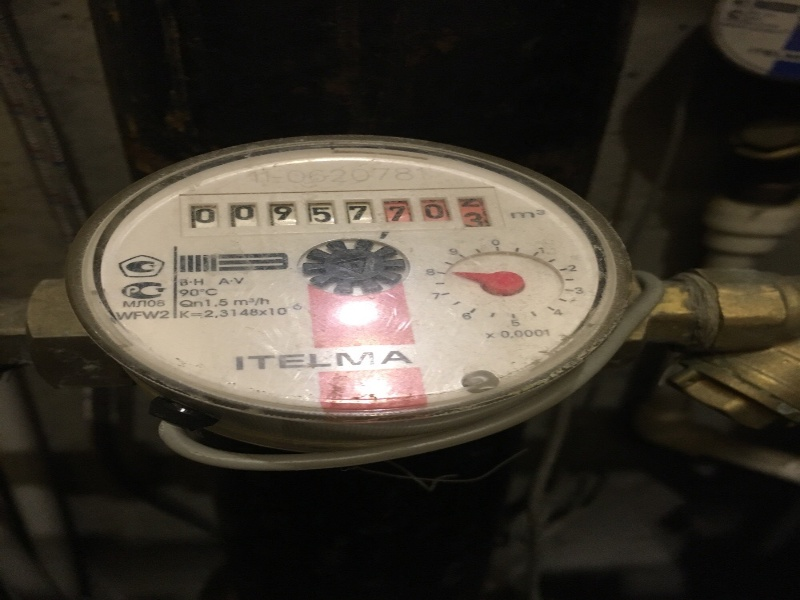meter: (177, 196, 493, 233)
